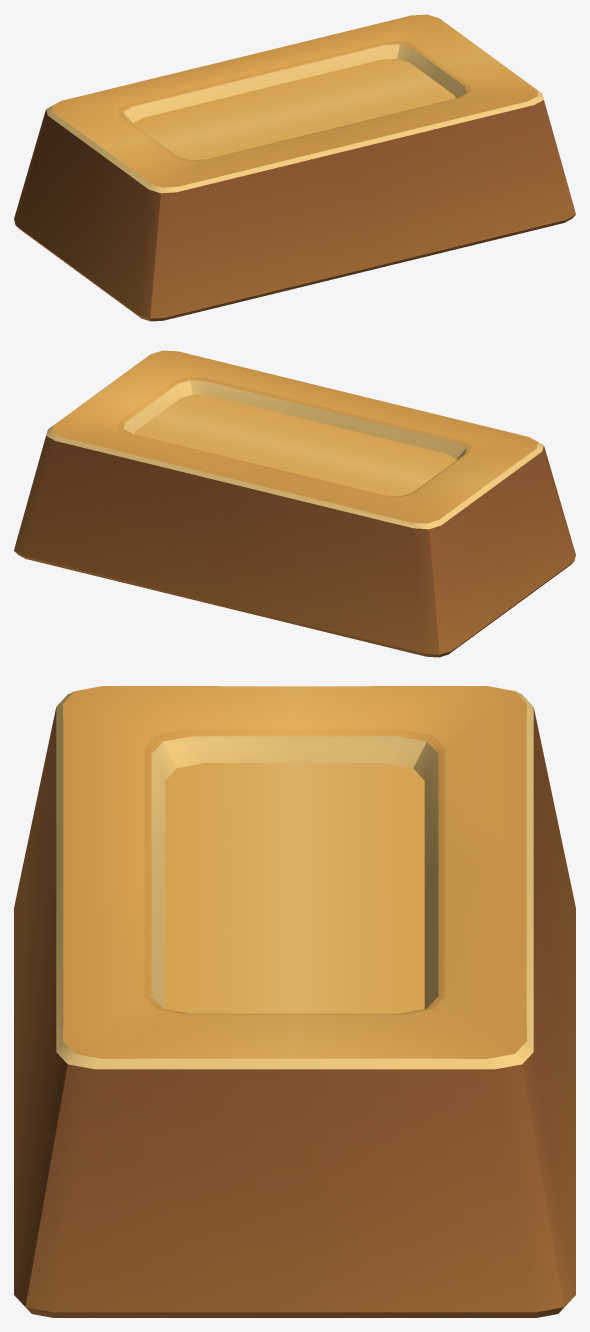
The model's file is Gold.fbx.
3 renders of one model, top to bottom at view 1: azimuth 30°, elevation 25°; view 2: azimuth 150°, elevation 25°; view 3: azimuth 270°, elevation 25°, orthographic. The views are drawn at different scales.
Visible parts, largest first — view 1: Gold; view 2: Gold; view 3: Gold.
Boxes of the visible parts, <box> form: Gold: <box>14,14,575,321</box>; Gold: <box>14,350,575,657</box>; Gold: <box>14,686,575,1317</box>.
Bounding box in the file's own units: 76.38 × 20.14 × 43.05.
